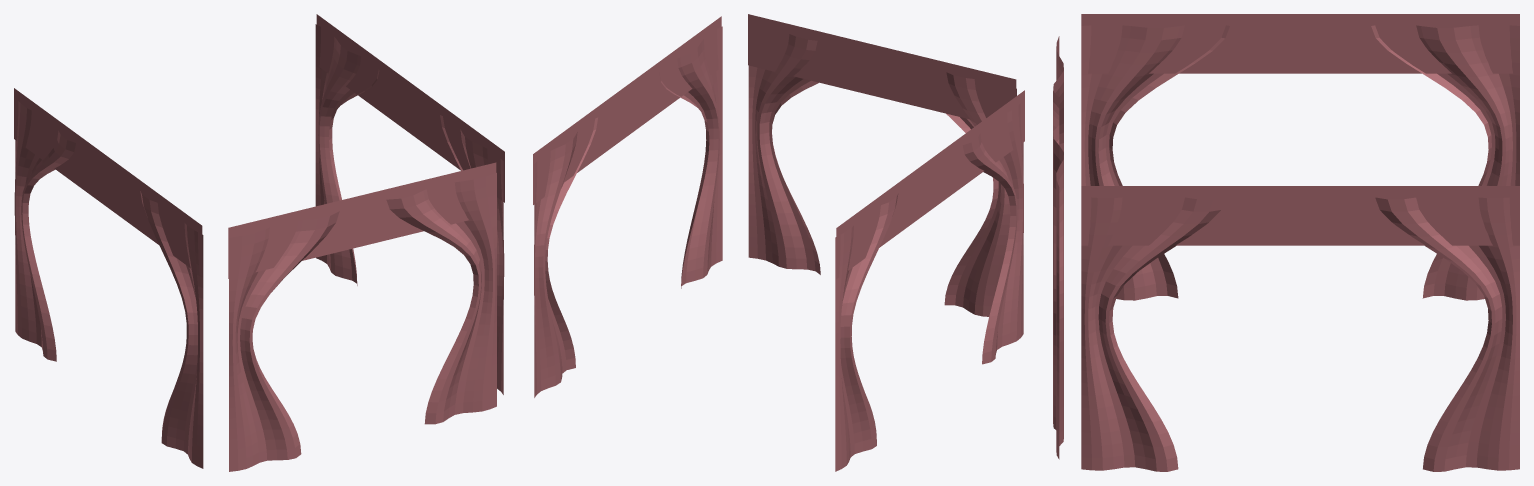
File: clutter_bed_curtains.glb
The picture shows the model from 3 angles, left to right: view 1: azimuth 30°, elevation 25°; view 2: azimuth 150°, elevation 25°; view 3: azimuth 270°, elevation 25°; orthographic projection. The views are drawn at different scales.
Parts seen in each view (by area): view 1: clutter_bed_curtains; view 2: clutter_bed_curtains; view 3: clutter_bed_curtains.
Boxes of the visible parts, x1,y1,x2,y2 form: clutter_bed_curtains: (14,14,504,471); clutter_bed_curtains: (533,14,1024,471); clutter_bed_curtains: (1053,14,1519,471).
Size of the model in its own units: 2.66 by 2 by 2.98.
